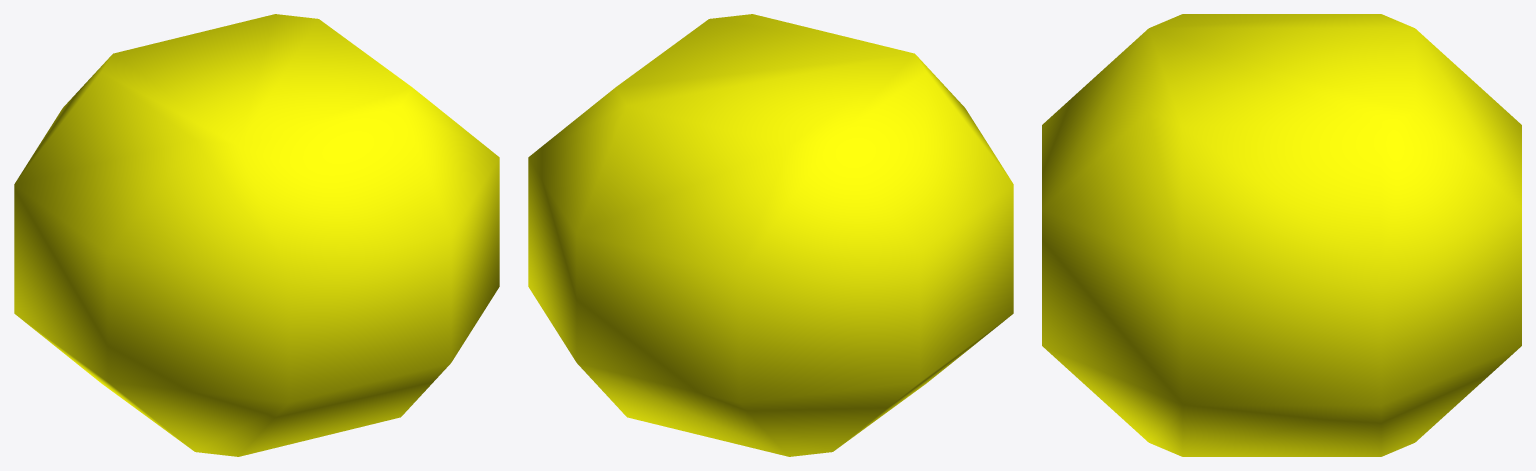
The model's file is A0509_6_0.bbox.gltf.
3 views of the same model, side by side, from view 1: azimuth 30°, elevation 25°; view 2: azimuth 150°, elevation 25°; view 3: azimuth 270°, elevation 25° (orthographic). The views are drawn at different scales.
Visible parts, largest first — view 1: A0509_6_0.bbox; view 2: A0509_6_0.bbox; view 3: A0509_6_0.bbox.
Boxes of the visible parts, <box> form: A0509_6_0.bbox: <box>14,14,499,456</box>; A0509_6_0.bbox: <box>528,14,1013,456</box>; A0509_6_0.bbox: <box>1042,14,1521,456</box>.
Size of the model in its own units: 86.9 by 66 by 86.9.
